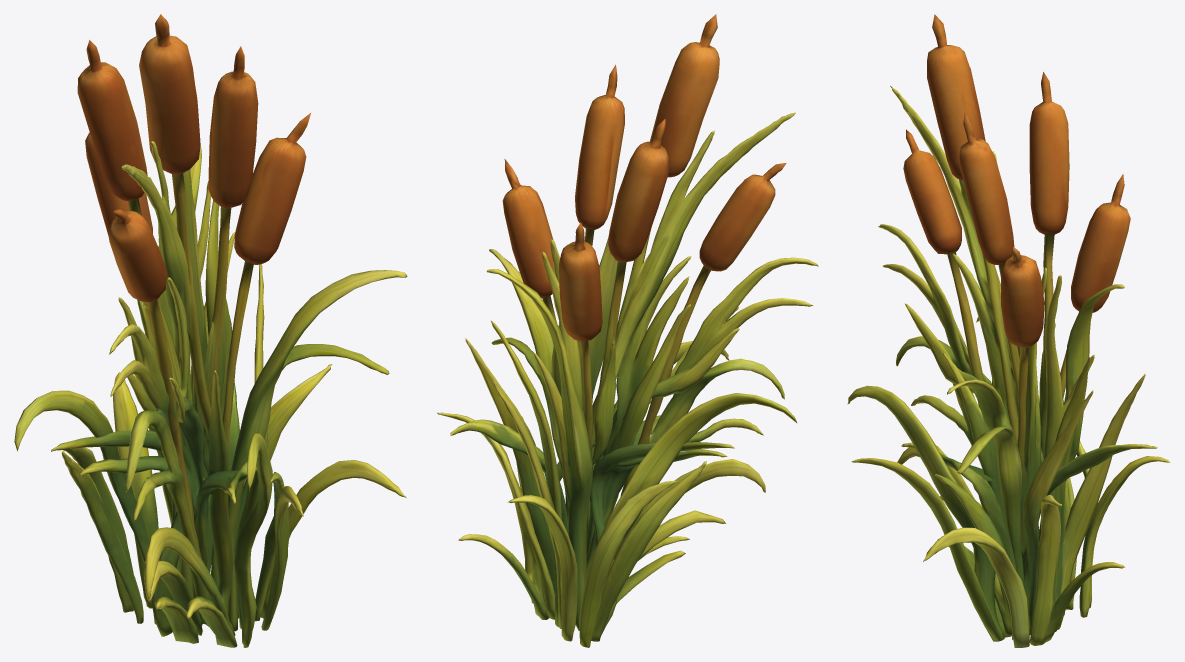
The model's file is reeds_cattails.glb.
3 renders of one model, left to right at view 1: azimuth 30°, elevation 25°; view 2: azimuth 150°, elevation 25°; view 3: azimuth 270°, elevation 25°, orthographic. The views are drawn at different scales.
Parts seen in each view (by area): view 1: tripo_node_f2f6a91d-4164-4317-bf63-bbf4db8396f3; view 2: tripo_node_f2f6a91d-4164-4317-bf63-bbf4db8396f3; view 3: tripo_node_f2f6a91d-4164-4317-bf63-bbf4db8396f3.
Part boxes in pixels (x1,y1,x2,y2): tripo_node_f2f6a91d-4164-4317-bf63-bbf4db8396f3: (14, 14, 407, 647); tripo_node_f2f6a91d-4164-4317-bf63-bbf4db8396f3: (437, 14, 818, 647); tripo_node_f2f6a91d-4164-4317-bf63-bbf4db8396f3: (847, 14, 1170, 647).
Size of the model in its own units: 0.5525 by 0.977 by 0.4951.
Materials: 1 (1 with a texture image).
